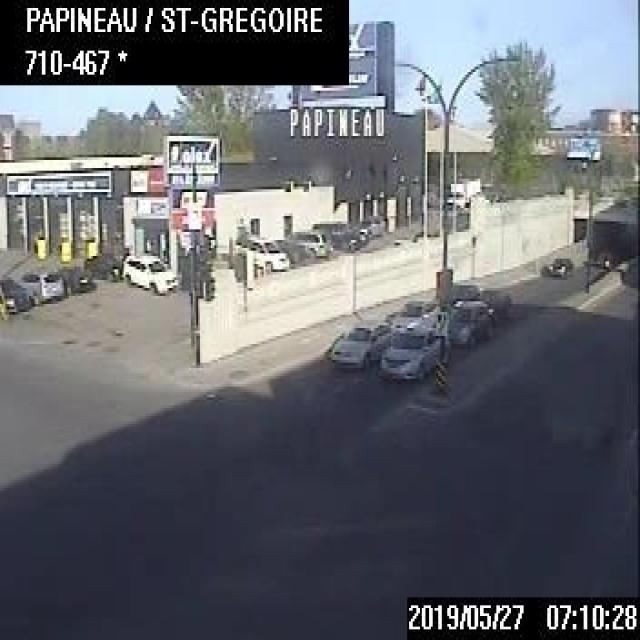vehicle: (376, 314, 447, 381), (327, 322, 391, 371), (121, 248, 180, 296), (439, 294, 491, 343), (235, 228, 289, 273), (14, 265, 68, 307), (312, 216, 365, 252), (0, 273, 35, 316), (290, 224, 328, 258), (56, 261, 95, 293), (82, 248, 121, 280), (445, 174, 480, 206), (547, 254, 573, 275)
